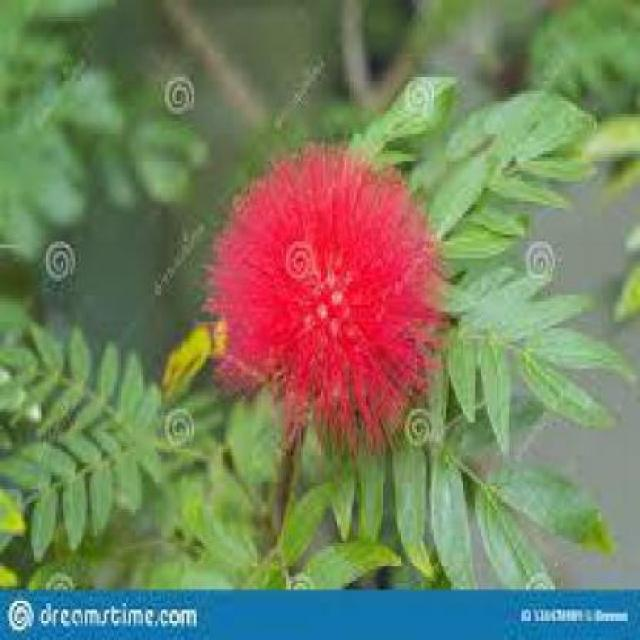flower: (221, 137, 436, 472)
